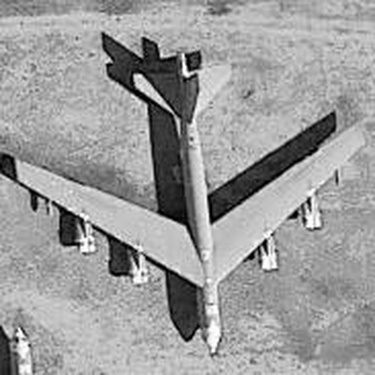airplane: (8, 24, 369, 357)
